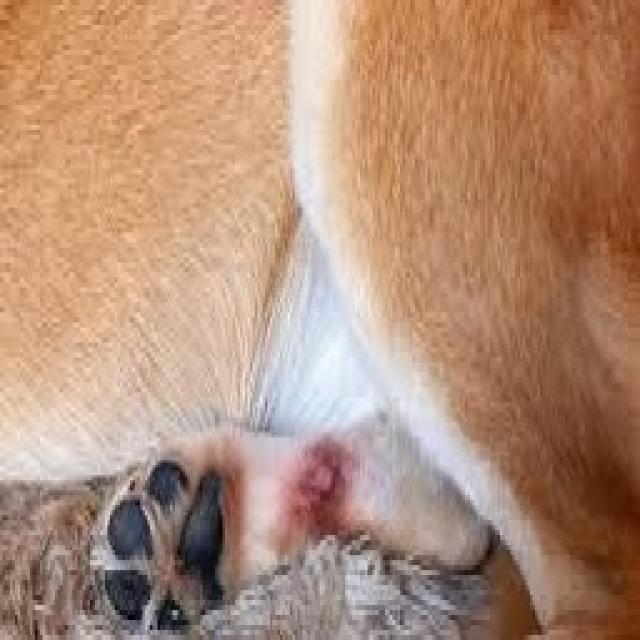hotspot: (307, 446, 339, 525)
